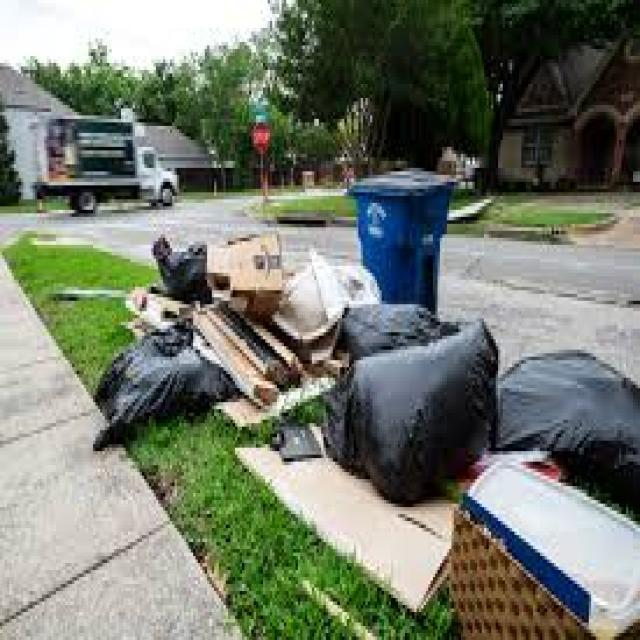Trashbag: (352, 348, 491, 492), (502, 350, 640, 485), (88, 335, 228, 434), (339, 296, 468, 360), (146, 228, 218, 306)
